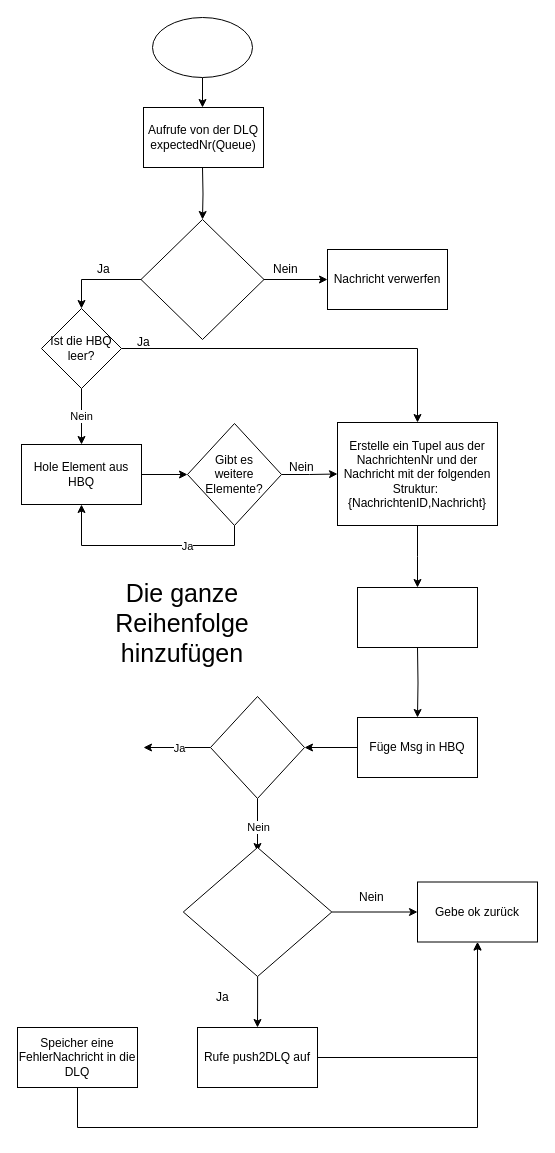
Some shapes in this 555 by 1153 pixel diagram are drawn without their labels. The centre of each missing label's shape, as x and y in pixels:
"Füge zu der Msg ein Eingangszeitstempel" goes at (417,617).
"HBQ 2/3 gefüllt?" goes at (257,747).
"Ist die NachrichtenNr gleich zu der NachrichtNr die expectedNr zurückliefert" goes at (257,911).
"NNR > expectedNR?" goes at (202,279).
"Start" goes at (202,47).
